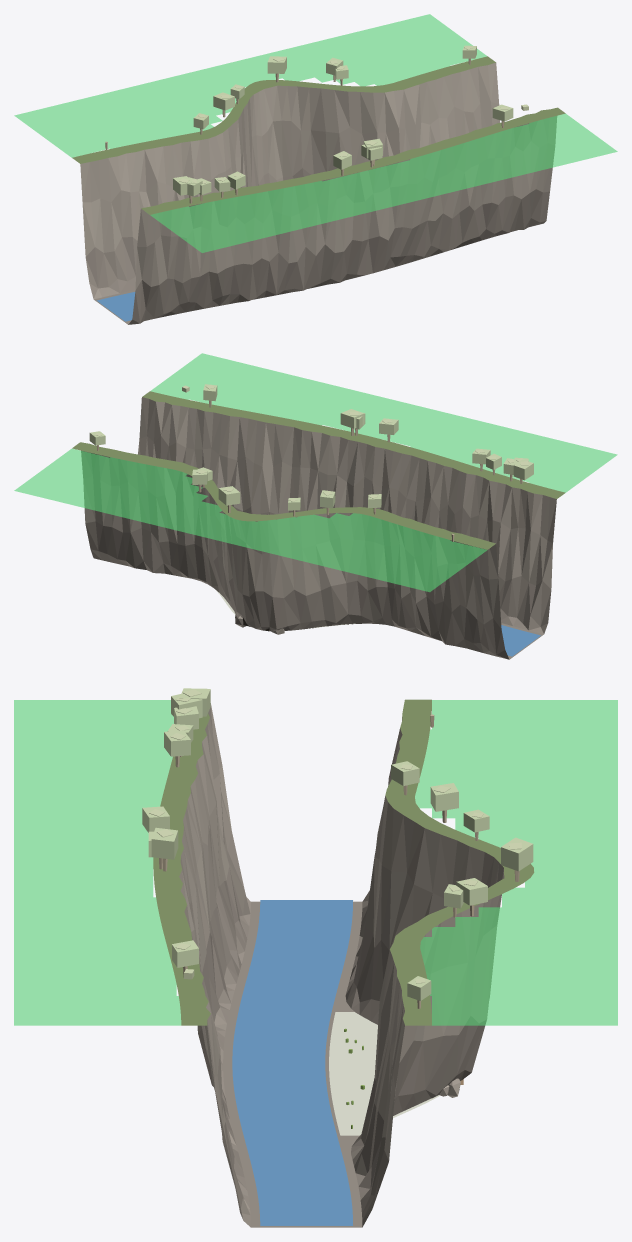
File: ribera.glb
3 views of the same model, one above another, from view 1: azimuth 30°, elevation 25°; view 2: azimuth 150°, elevation 25°; view 3: azimuth 270°, elevation 25° (orthographic). The views are drawn at different scales.
Visible parts, largest first — view 1: RiberaCanyon, AutoForest_Ribera, RiberaRio; view 2: RiberaCanyon, AutoForest_Ribera, RiberaRio; view 3: AutoForest_Ribera, RiberaCanyon, RiberaRio, RiberaCalaMeadow, ribera_tree_tree_crown_90, ribera_tree_tree_crown_158.
Boxes of the visible parts, left/top/right/bottom form: RiberaCanyon: left=72, top=56, right=565, bottom=324; AutoForest_Ribera: left=14, top=14, right=617, bottom=252; RiberaRio: left=96, top=292, right=135, bottom=321; RiberaCanyon: left=72, top=391, right=565, bottom=659; AutoForest_Ribera: left=14, top=353, right=617, bottom=591; RiberaRio: left=501, top=625, right=540, bottom=656; AutoForest_Ribera: left=14, top=700, right=617, bottom=1025; RiberaCanyon: left=153, top=699, right=534, bottom=1227; RiberaRio: left=232, top=900, right=352, bottom=1225; RiberaCalaMeadow: left=329, top=1012, right=439, bottom=1135; ribera_tree_tree_crown_90: left=501, top=837, right=533, bottom=871; ribera_tree_tree_crown_158: left=151, top=827, right=178, bottom=859.
Size of what is drawn, in the model's own units: 83 by 29.42 by 65.
